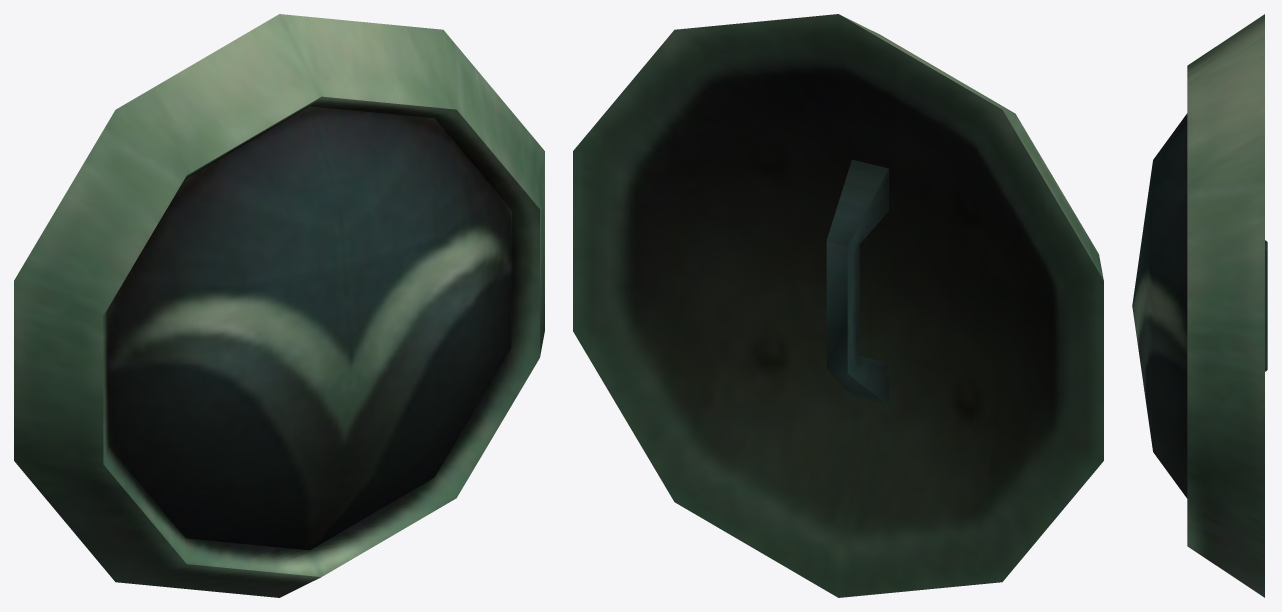
The model's file is standardShield.glb.
3 views of the same model, side by side, from view 1: azimuth 30°, elevation 25°; view 2: azimuth 150°, elevation 25°; view 3: azimuth 270°, elevation 25° (orthographic). The views are drawn at different scales.
Visible parts, largest first — view 1: standardShield; view 2: standardShield; view 3: standardShield.
Part boxes in pixels (x1,y1,x2,y2): standardShield: [14, 14, 544, 597]; standardShield: [573, 14, 1103, 597]; standardShield: [1132, 14, 1267, 597].
Bounding box in the file's own units: 1.12 × 1.18 × 0.2677.
Materials: 1 (1 with a texture image).
